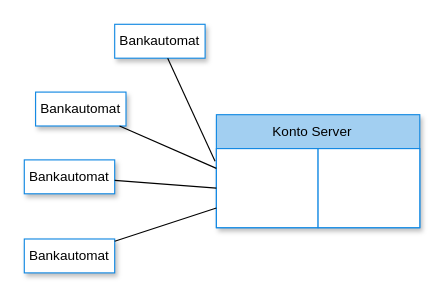
Image size: 446x301. Some labels were removed from this diagram. The shapes that lost their labels are listed below. From the top down, each one's centre as x and y in pixels, then its label:
[266,187]: Teleprocessing Monitor
[368,187]: Kundenkonto Datenbank
